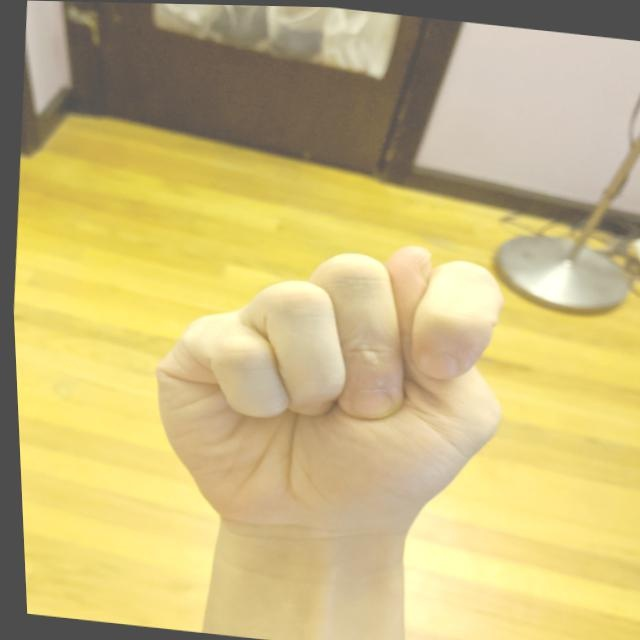T: (122, 206, 531, 561)
